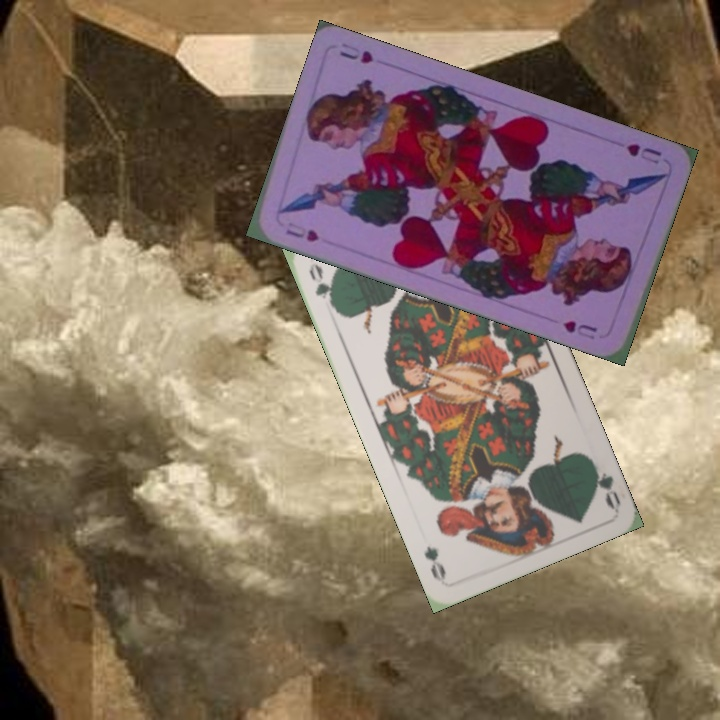GO: (587, 455, 624, 511), (304, 259, 339, 312)
HU: (622, 139, 664, 167), (281, 220, 322, 245)
